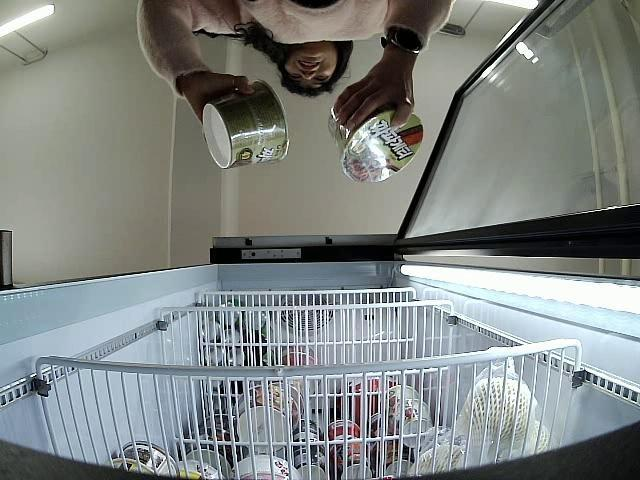03_chapagetti_L: (202, 80, 290, 169), (328, 102, 422, 184)
